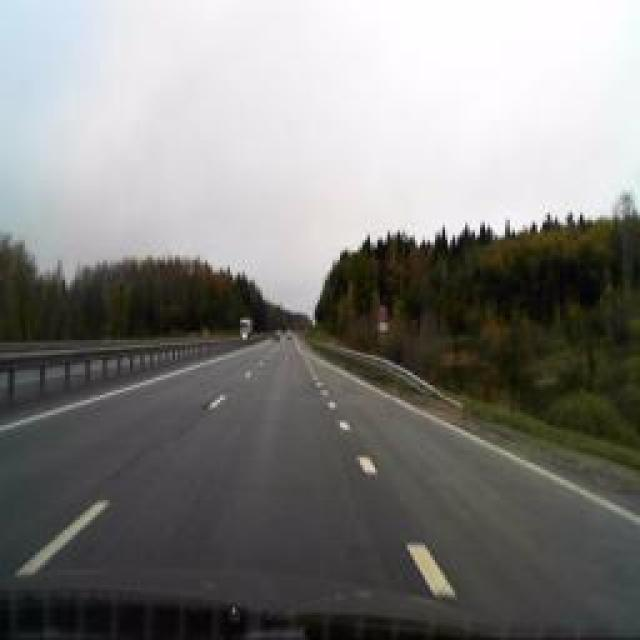sign: (379, 306, 386, 322)
